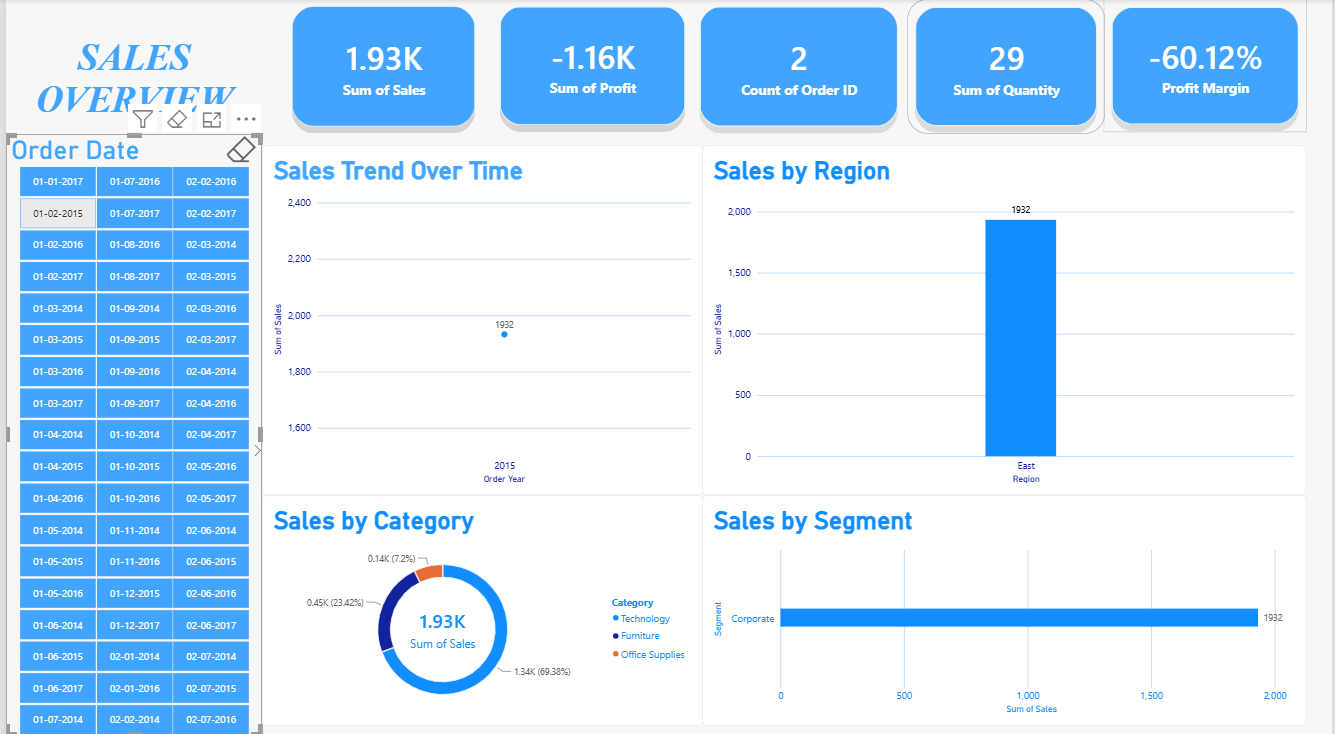

The dashboard page shown, as its layout file describes it:
{"tool":"powerbi","page":{"name":"Sales_Overview","canvas":[1920,1080],"ordinal":0},"visuals":[{"type":"cardVisual","title":"Total Sales","fields":{"Data":["Sum(Superstore.Sales)"]},"box":[403.4,0,286.1,195.5],"z":0},{"type":"cardVisual","fields":{"Data":["Sum(Superstore.Profit)"]},"box":[703.9,0,290.2,193.5],"z":1000},{"type":"cardVisual","fields":{"Data":["Sum(Superstore.Quantity)"]},"box":[1305,0,286.1,195.5],"z":2000},{"type":"cardVisual","fields":{"Data":["Count(Superstore.Order ID)"]},"box":[994.2,0,308.7,195.5],"z":3000},{"type":"cardVisual","fields":{"Data":["Superstore.Measure"]},"box":[1589,0,294.3,193.5],"z":4000},{"type":"lineChart","title":"Sales Trend Over Time","fields":{"Category":["Superstore.Order Year"],"Y":["Sum(Superstore.Sales)"]},"box":[370.5,212,638.1,506.3],"z":5000},{"type":"clusteredColumnChart","title":"Sales by Region","fields":{"Category":["Superstore.Region"],"Y":["Sum(Superstore.Sales)"]},"box":[1008.6,212,874.8,506.3],"z":6000},{"type":"donutChart","title":"Sales by Category","fields":{"Category":["Superstore.Category"],"Y":["Sum(Superstore.Sales)"]},"box":[370.5,718.4,638.1,333.4],"z":7000},{"type":"barChart","title":"Sales by Segment","fields":{"Category":["Superstore.Segment"],"Y":["Sum(Superstore.Sales)"]},"box":[1008.6,718.4,874.8,333.4],"z":8000},{"type":"slicer","fields":{"Values":["Superstore.Order Date"]},"box":[0,195.5,370.5,870.7],"z":9000},{"type":"textbox","box":[0,0,370.5,195.5],"z":9001}]}

Visuals, with their boxes on the page's 1920x1080 design canvas (x1, y1, x2, y2). These are canvas units, not pixel positions in the 1335x734 screenshot, which may show the page scaled, cropped or inside an application window:
"Total Sales" cardVisual: left=403, top=0, right=690, bottom=196
cardVisual - Sum(Superstore.Profit): left=704, top=0, right=994, bottom=194
cardVisual - Sum(Superstore.Quantity): left=1305, top=0, right=1591, bottom=196
cardVisual - Count(Superstore.Order ID): left=994, top=0, right=1303, bottom=196
cardVisual - Superstore.Measure: left=1589, top=0, right=1883, bottom=194
"Sales Trend Over Time" lineChart: left=370, top=212, right=1009, bottom=718
"Sales by Region" clusteredColumnChart: left=1009, top=212, right=1883, bottom=718
"Sales by Category" donutChart: left=370, top=718, right=1009, bottom=1052
"Sales by Segment" barChart: left=1009, top=718, right=1883, bottom=1052
slicer - Superstore.Order Date: left=0, top=196, right=370, bottom=1066
textbox: left=0, top=0, right=370, bottom=196
